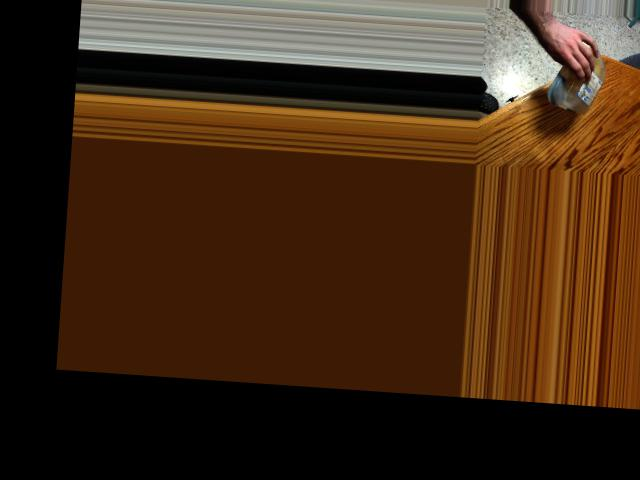cheese: (553, 49, 599, 111)
